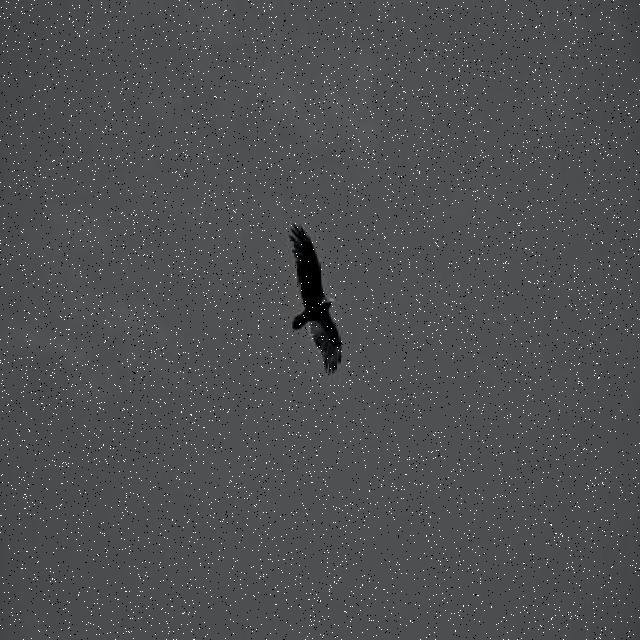bird: (290, 227, 342, 376)
